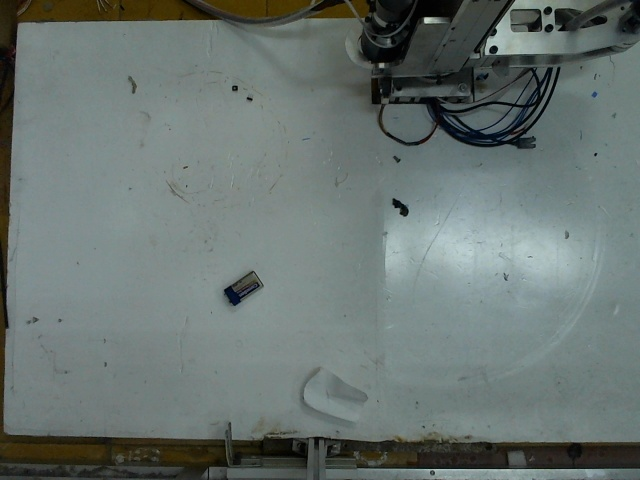battery: (220, 267, 262, 302)
